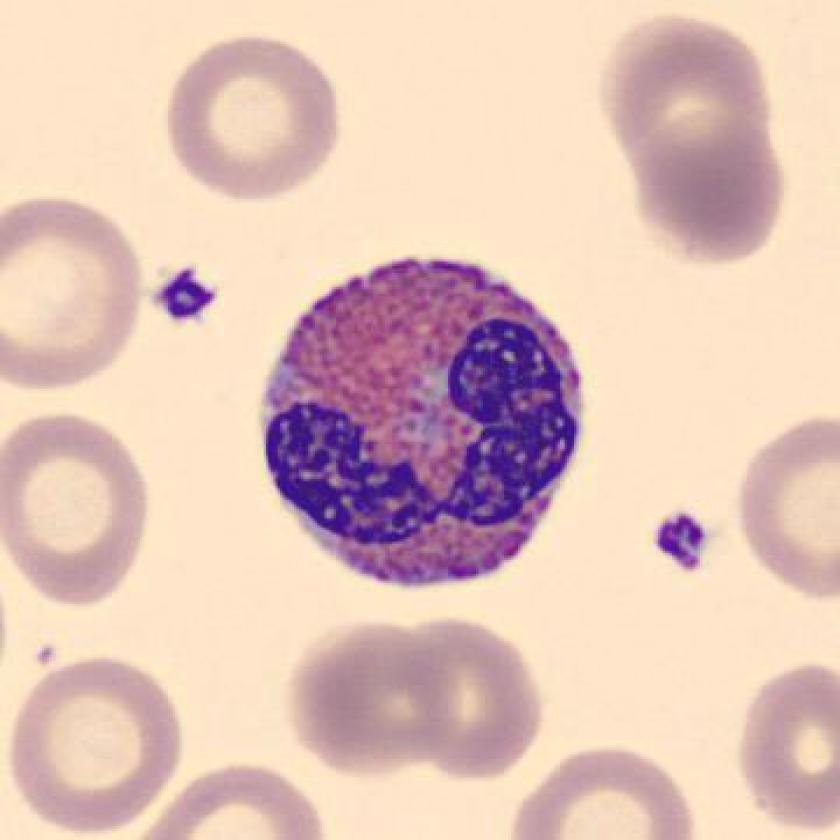eosinophil: (249, 237, 599, 600)
